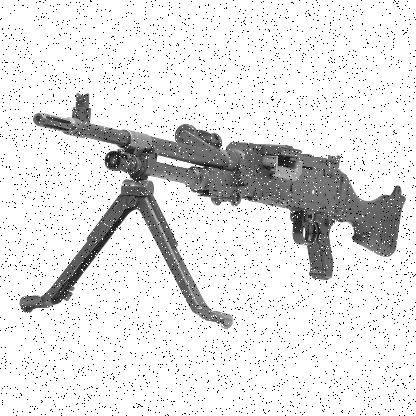gun: (19, 90, 405, 328)
